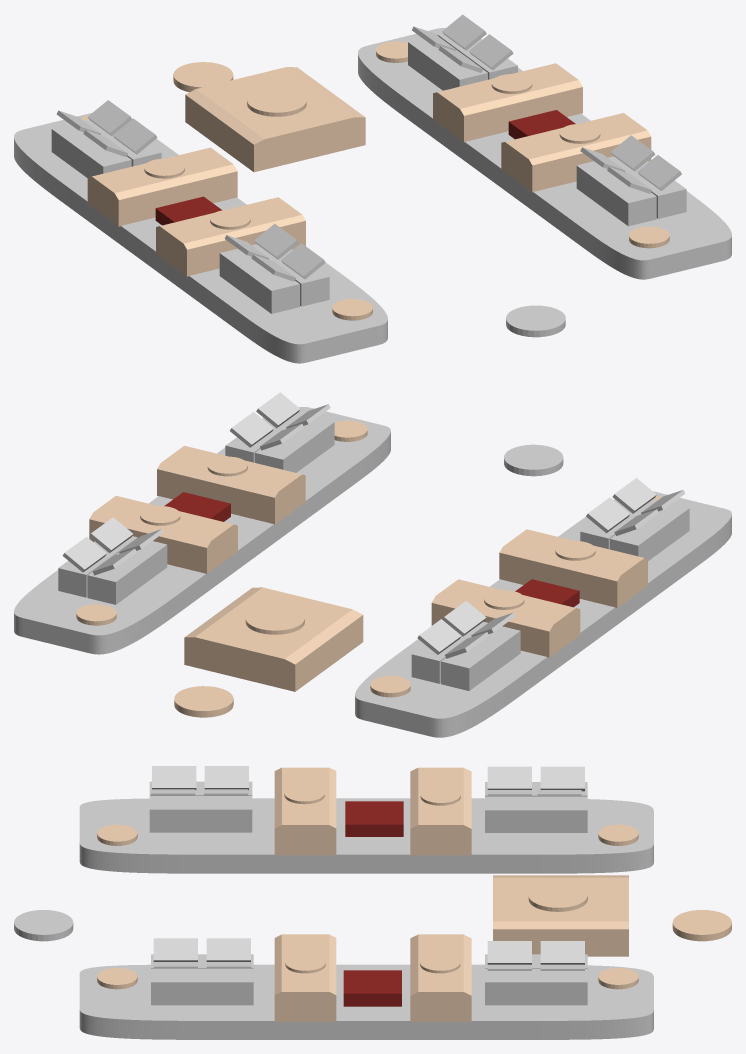
Rendered from SMParte de adentrojunta7.fbx.
3 renders of one model, top to bottom at view 1: azimuth 30°, elevation 25°; view 2: azimuth 150°, elevation 25°; view 3: azimuth 270°, elevation 25°, orthographic.
Visible parts, largest first — view 1: Cubo.015, Cubo.016, Cubo.021, Cubo.019, Cubo.017, Cubo.018, Cubo.020, Cubo.030, Cubo.024, Cubo.028, Cubo.026, Cilindro.021 (+23 smaller); view 2: Cubo.015, Cubo.016, Cubo.021, Cubo.020, Cubo.018, Cubo.017, Cubo.019, Cubo.028, Cubo.026, Cubo.030, Cubo.024, Cilindro.020 (+23 smaller); view 3: Cubo.016, Cubo.015, Cubo.021, Cubo.020, Cubo.018, Cubo.019, Cubo.017, Cubo.025, Cubo.031, Cubo.029, Cubo.027, Cubo.022 (+20 smaller).
Boxes of the visible parts, left/top/right/bottom form: Cubo.015: left=358, top=28, right=731, bottom=279; Cubo.016: left=14, top=113, right=387, bottom=363; Cubo.021: left=185, top=67, right=365, bottom=172; Cubo.019: left=87, top=147, right=237, bottom=226; Cubo.017: left=433, top=63, right=582, bottom=142; Cubo.018: left=501, top=113, right=651, bottom=192; Cubo.020: left=156, top=197, right=305, bottom=276; Cubo.030: left=219, top=248, right=299, bottom=313; Cubo.024: left=576, top=161, right=656, bottom=226; Cubo.028: left=51, top=124, right=131, bottom=177; Cubo.026: left=408, top=38, right=487, bottom=90; Cilindro.021: left=506, top=305, right=565, bottom=337; Cubo.015: left=14, top=407, right=390, bottom=654; Cubo.016: left=355, top=491, right=731, bottom=737; Cubo.021: left=184, top=587, right=363, bottom=691; Cubo.020: left=499, top=529, right=647, bottom=607; Cubo.018: left=157, top=445, right=305, bottom=524; Cubo.017: left=89, top=495, right=237, bottom=573; Cubo.019: left=431, top=579, right=580, bottom=657; Cubo.028: left=441, top=626, right=520, bottom=690; Cubo.026: left=87, top=541, right=167, bottom=604; Cubo.030: left=610, top=503, right=689, bottom=560; Cubo.024: left=255, top=418, right=334, bottom=472; Cilindro.020: left=174, top=686, right=233, bottom=717; Cubo.016: left=79, top=798, right=653, bottom=873; Cubo.015: left=79, top=964, right=653, bottom=1039; Cubo.021: left=493, top=875, right=628, bottom=956; Cubo.020: left=274, top=767, right=336, bottom=855; Cubo.018: left=274, top=934, right=336, bottom=1021; Cubo.019: left=410, top=767, right=471, bottom=855; Cubo.017: left=410, top=934, right=471, bottom=1021; Cubo.025: left=151, top=968, right=253, bottom=1005; Cubo.031: left=149, top=796, right=252, bottom=832; Cubo.029: left=485, top=796, right=587, bottom=832; Cubo.027: left=485, top=968, right=587, bottom=1005; Cubo.022: left=343, top=970, right=401, bottom=1006.
Bounding box in the file's own units: 127 × 16.85 × 172.
